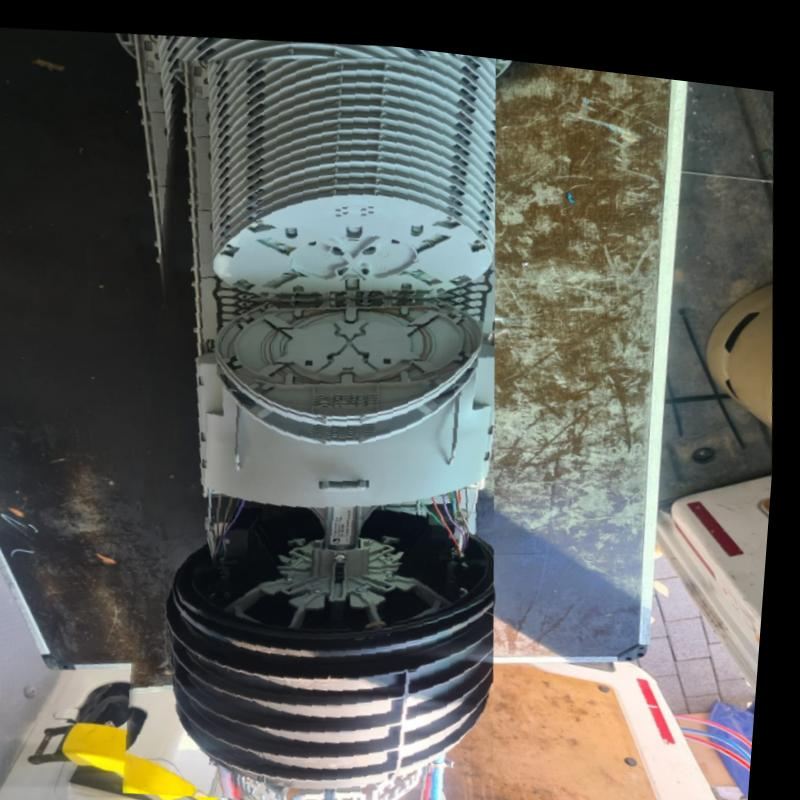NT-Muffen: (79, 12, 547, 800)
